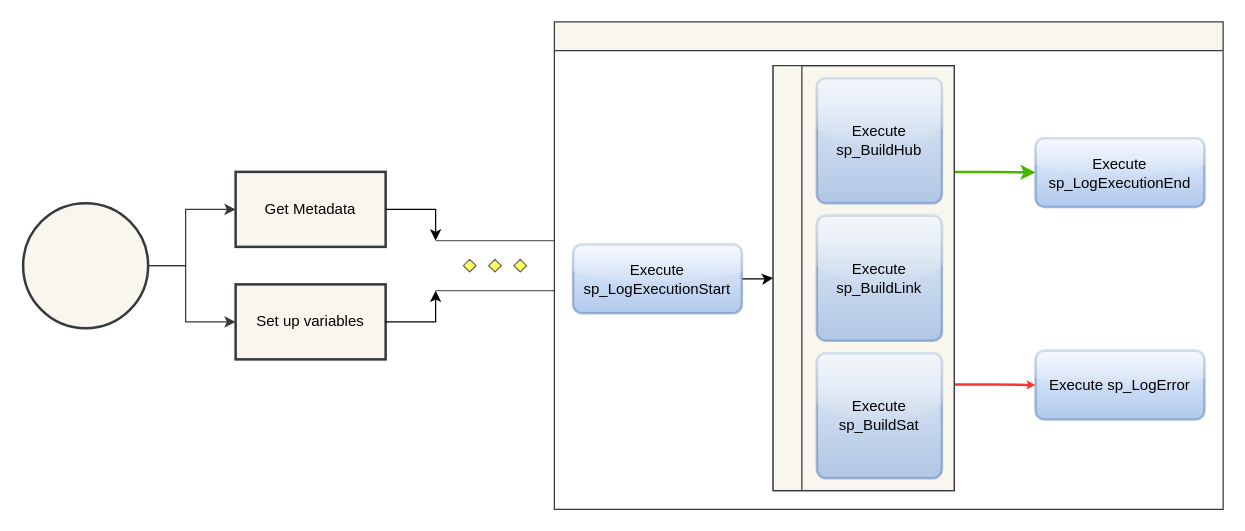
This 1245x531 diagram has some shape labels left out. Each missing label, with the box of its shape:
For Each Target Table: (553, 21, 1223, 509)
Switch Case: (772, 64, 954, 491)
Trigger Job: (21, 201, 149, 329)
